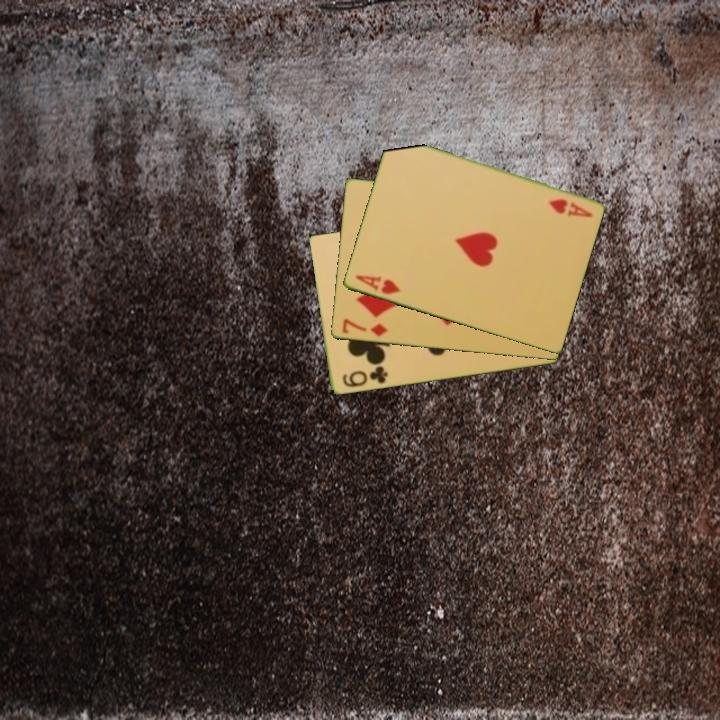6c: (339, 363, 390, 390)
7d: (338, 315, 391, 340)
Ah: (351, 272, 403, 297), (545, 195, 595, 220)
